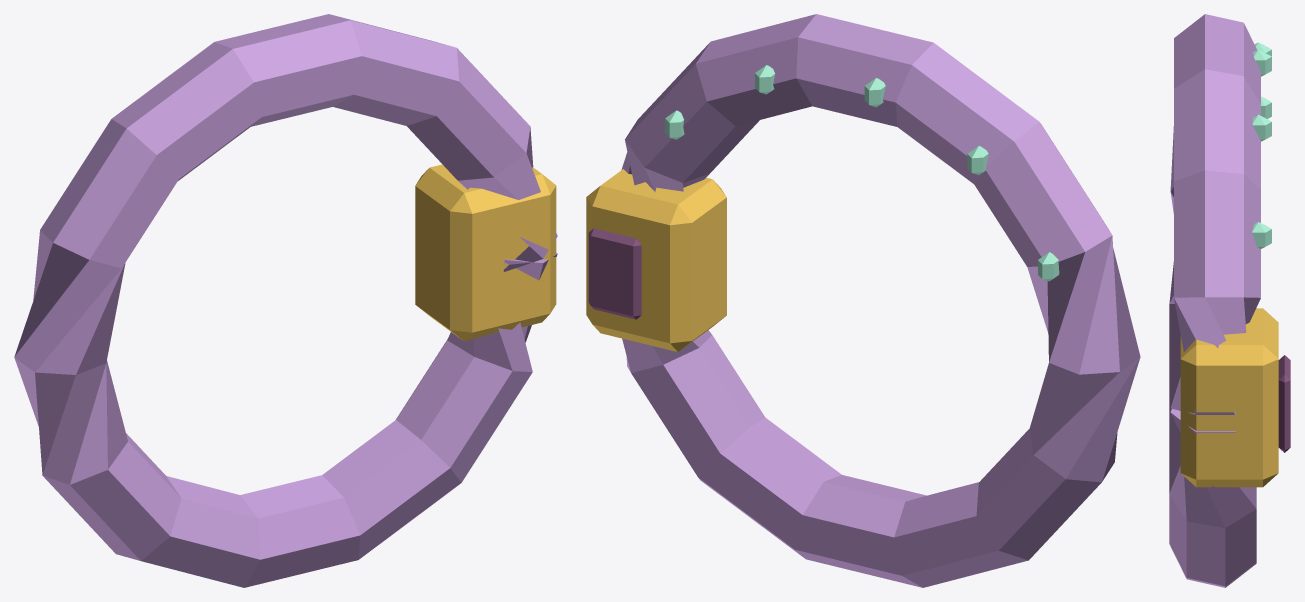
File: spring.glb
3 views of the same model, side by side, from view 1: azimuth 30°, elevation 25°; view 2: azimuth 150°, elevation 25°; view 3: azimuth 270°, elevation 25° (orthographic). The views are drawn at different scales.
Visible parts, largest first — view 1: spring; view 2: spring; view 3: spring.
Boxes of the visible parts, x1,y1,x2,y2 form: spring: [14, 14, 557, 587]; spring: [586, 14, 1140, 587]; spring: [1169, 14, 1290, 587].
Size of the model in its own units: 0.4554 by 0.45 by 0.0953.
